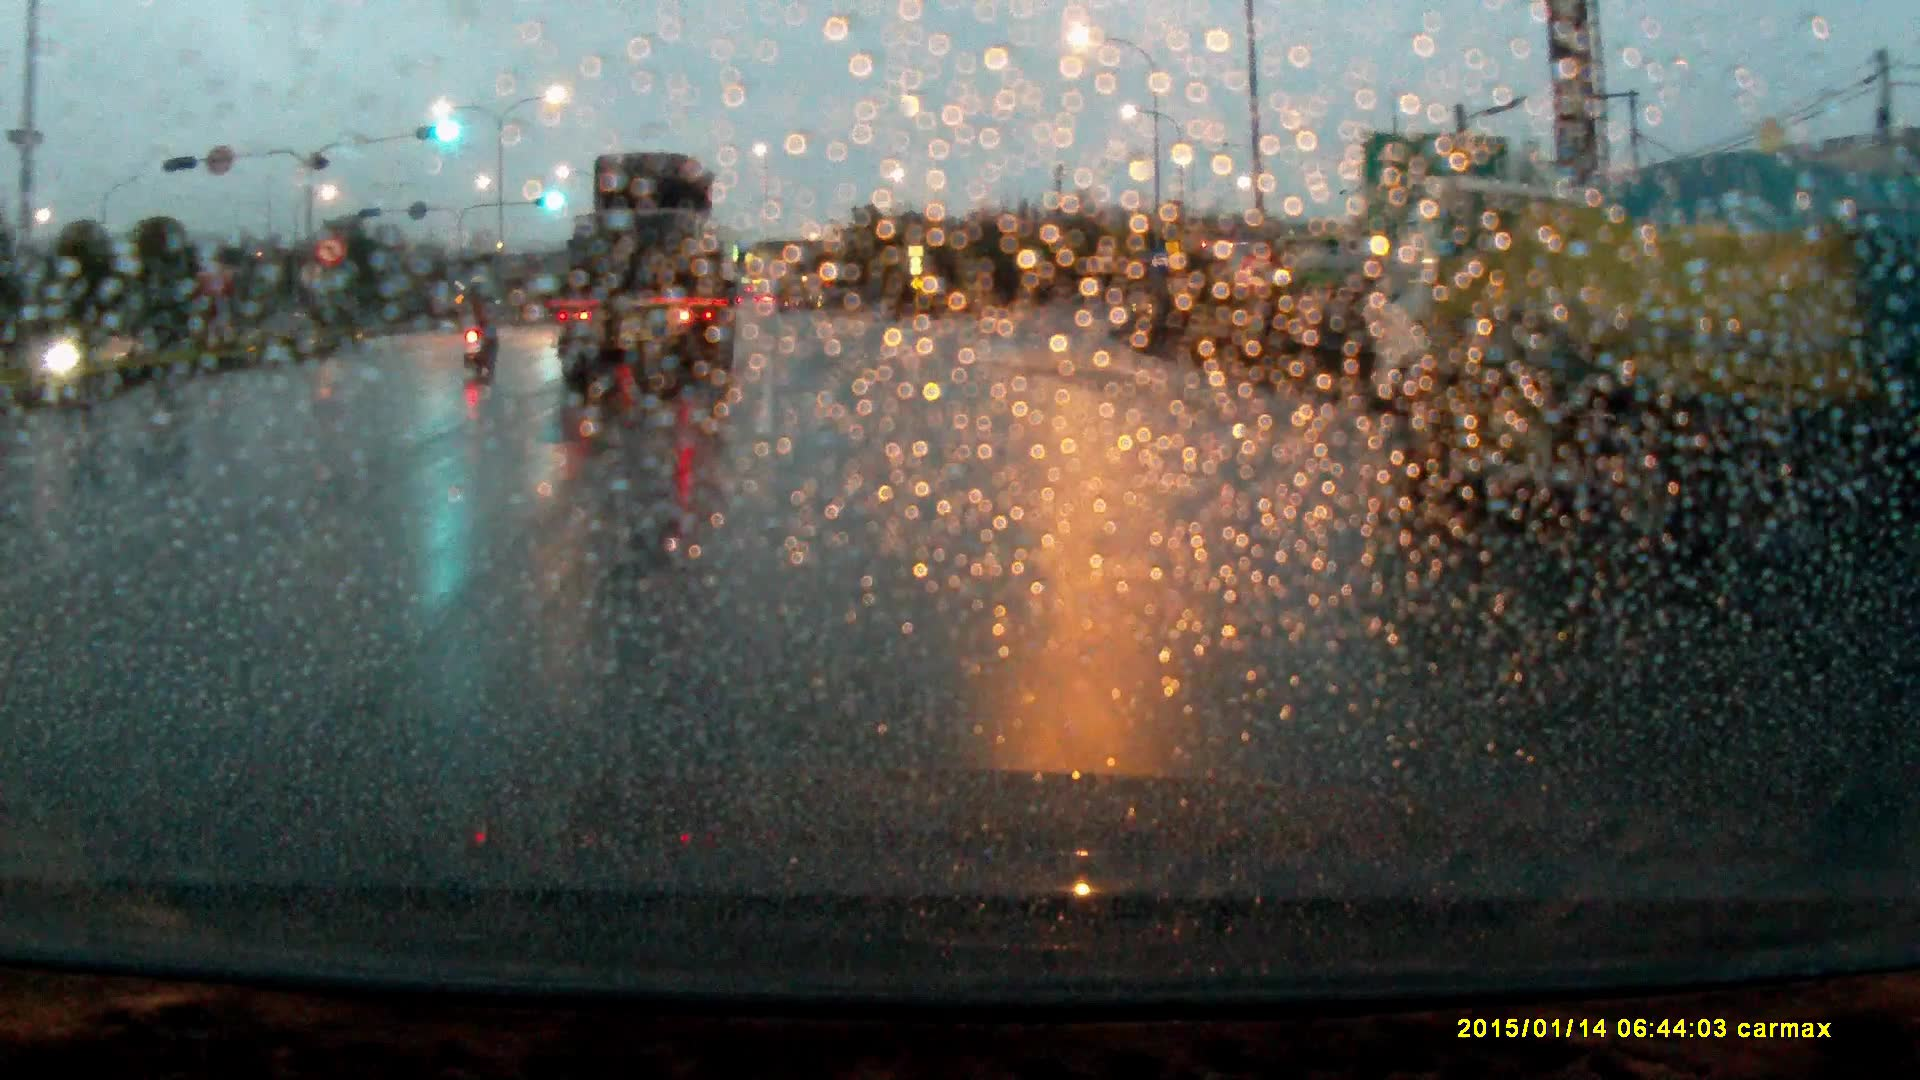rider: (456, 272, 505, 381)
vehicle: (1367, 156, 1920, 566), (551, 153, 739, 405)
